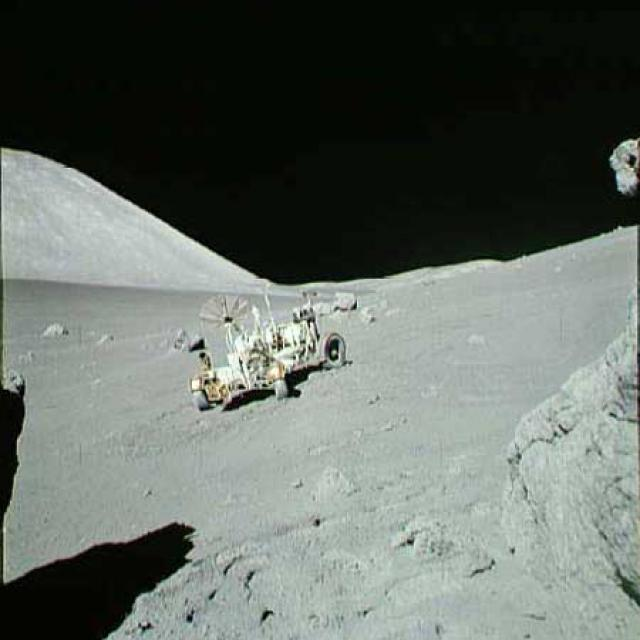artifact: (182, 276, 352, 414)
rock: (502, 278, 639, 638), (307, 462, 361, 499), (172, 328, 210, 356), (361, 296, 389, 328), (40, 320, 70, 341), (331, 290, 356, 312)
